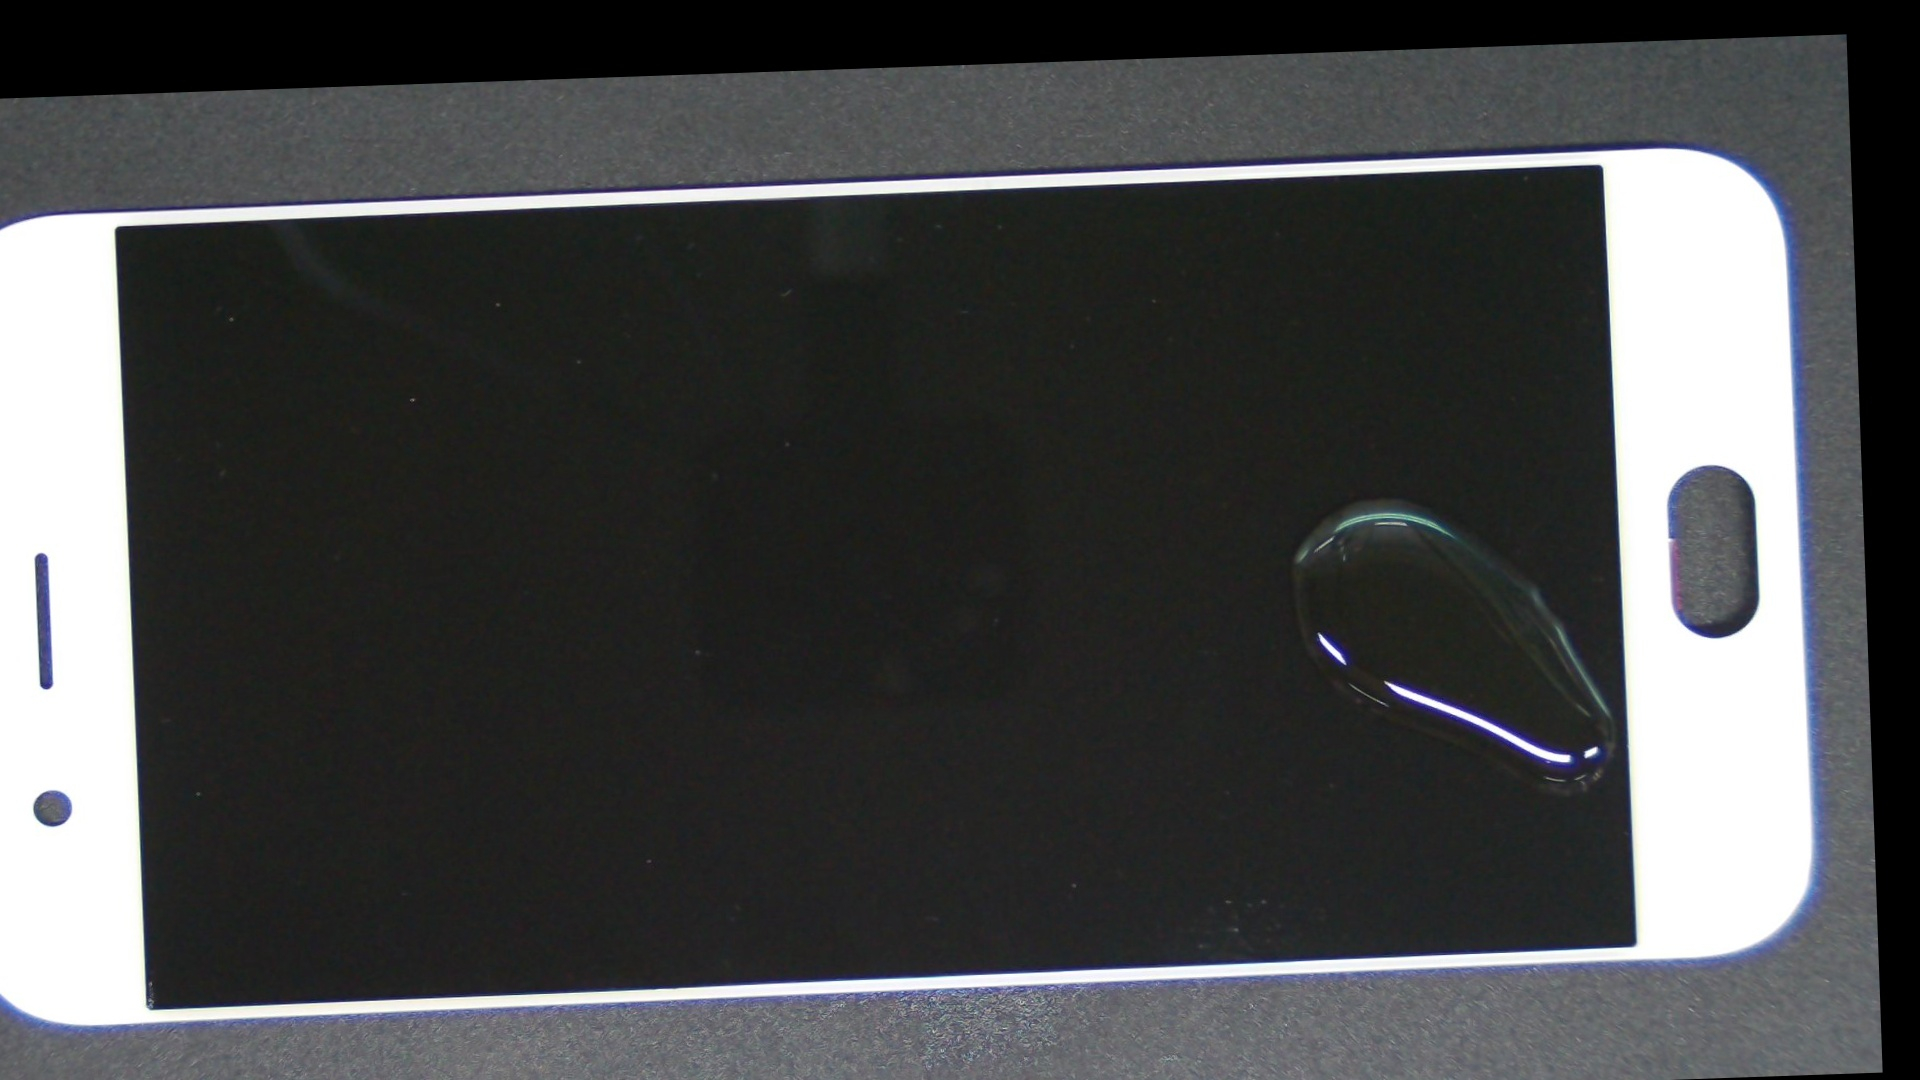oil: (622, 257, 1870, 748)
